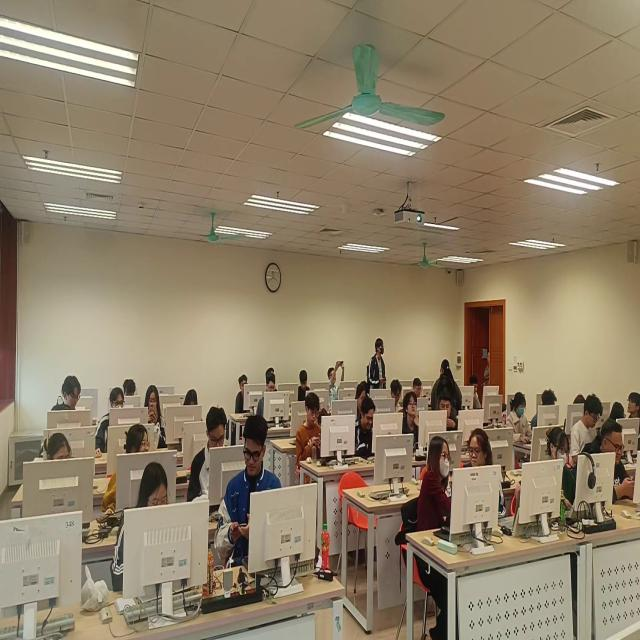raise_head: (416, 434, 453, 533), (402, 390, 421, 441), (354, 382, 366, 417)
stand: (429, 359, 463, 420), (370, 335, 388, 394)
using_computer: (110, 459, 173, 592), (185, 405, 228, 506), (543, 420, 580, 520), (95, 386, 125, 461), (570, 391, 599, 463), (178, 386, 204, 451), (38, 432, 76, 473), (354, 396, 376, 460), (56, 372, 83, 419), (510, 393, 533, 448), (532, 388, 558, 431), (257, 375, 276, 418), (234, 373, 249, 416), (388, 378, 404, 414), (298, 367, 312, 403), (608, 399, 627, 424), (470, 376, 483, 412), (413, 375, 427, 404), (123, 378, 138, 401)
using_phone: (215, 413, 284, 576), (586, 421, 635, 505), (294, 386, 326, 476), (144, 385, 168, 451), (327, 356, 347, 407), (436, 393, 458, 434)
